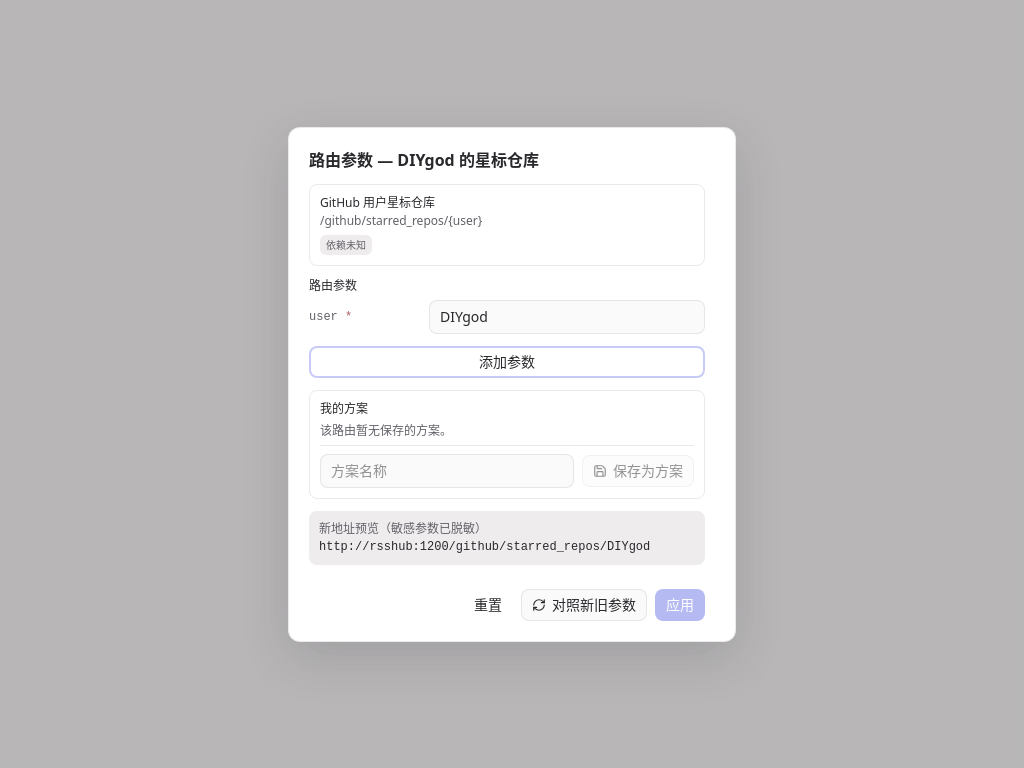
Scenario: F047 — N030 我的方案 › 保存为方案：POST 请求体 = 路由 id + 模板参数反解 + 当前 query
This screenshot has width=1024, height=768.
Expected: the element "我的方案" is shown, 309,390 -> 705,498
Expected: the text "该路由暂无保存的方案。" is shown, 320,422 -> 452,438
Type "默认" into the field labelled "方案名称".
click(447, 470); type("默认")  # box 320,454 -> 574,488
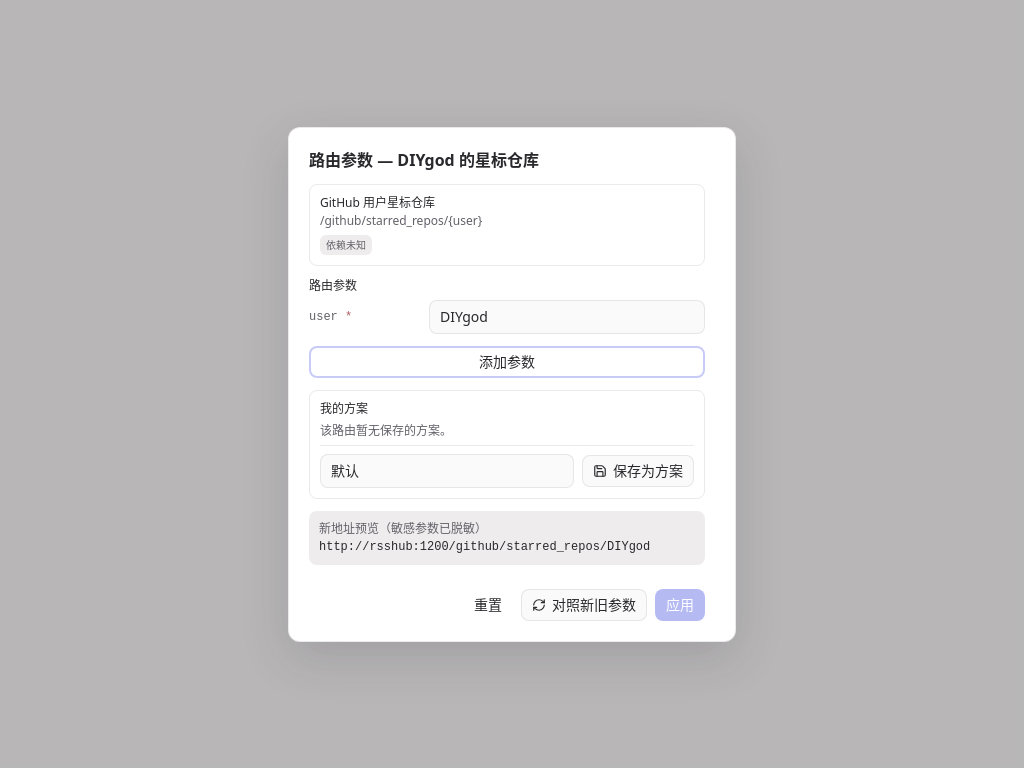
Click the button "保存为方案".
click(638, 470)  # box 582,454 -> 694,486
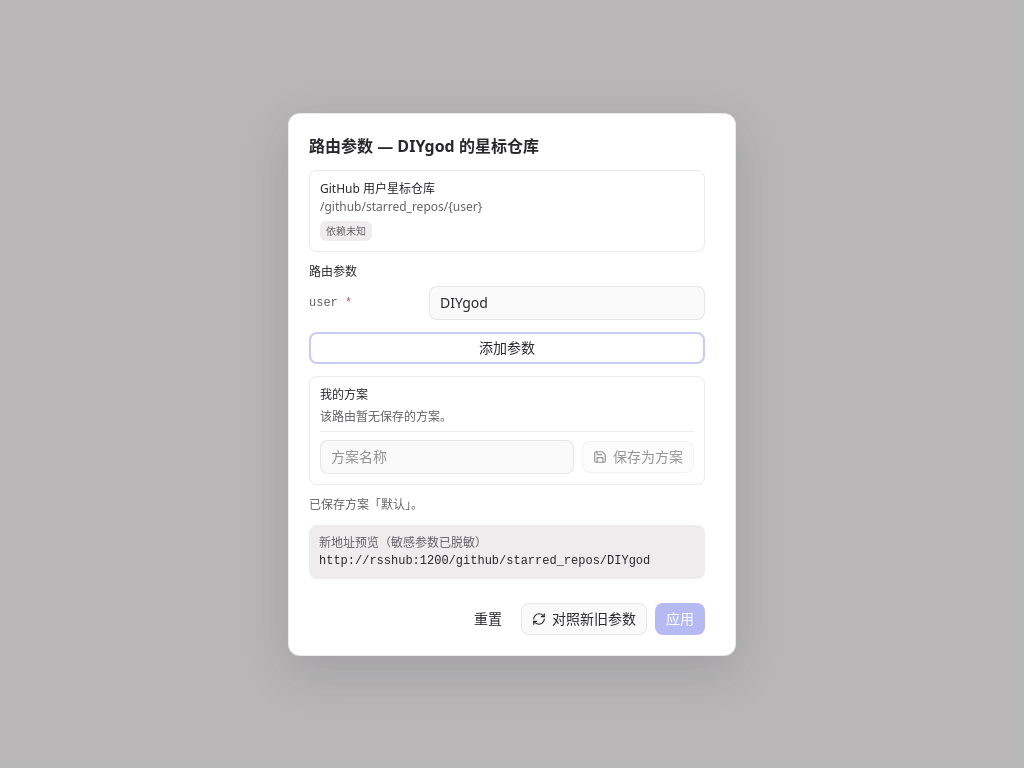
Result: the text "已保存方案「默认」。" is shown at 309,496 -> 423,512
